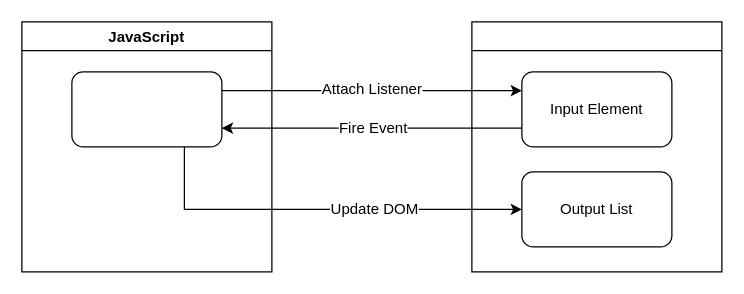
Some shapes in this 744 by 294 pixel diagram are drawn without their labels. Each missing label, with the box of its shape:
DOM: (471, 21, 722, 272)
Event Listener: (71, 71, 222, 147)
